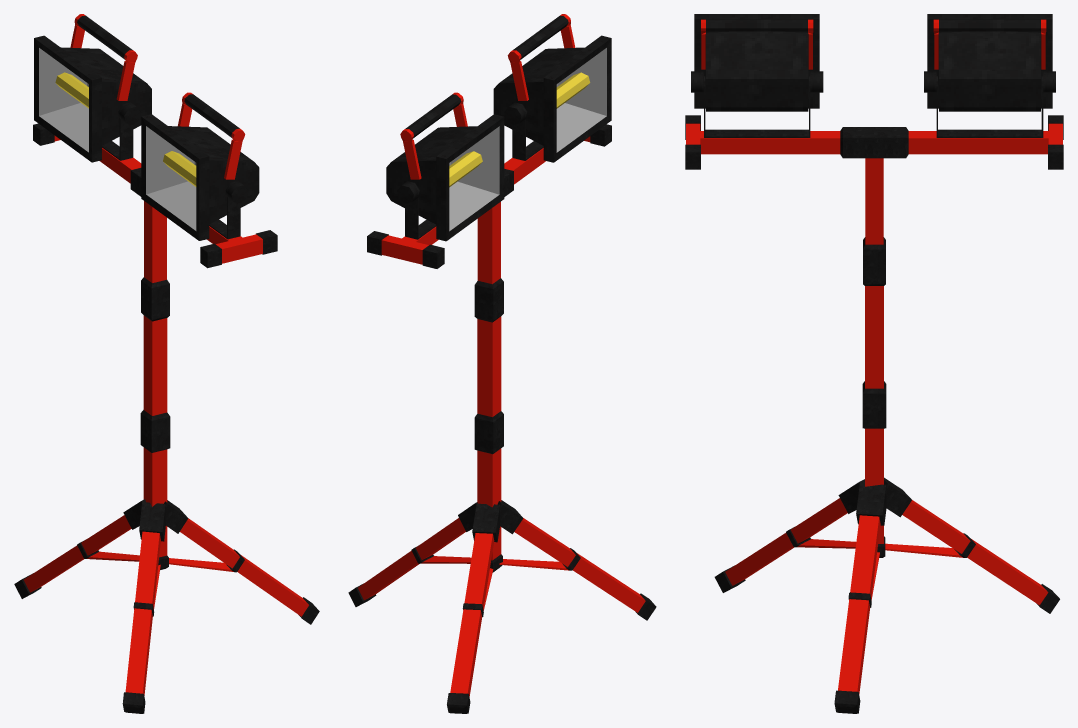
The model's file is halogen_station.glb.
The picture shows the model from 3 angles, left to right: view 1: azimuth 30°, elevation 25°; view 2: azimuth 150°, elevation 25°; view 3: azimuth 270°, elevation 25°; orthographic projection. The views are drawn at different scales.
Parts seen in each view (by area): view 1: Legs, HalogenR, HalogenL, HalogenStation, TopPart, HalogenStandL, HalogenStandR; view 2: Legs, HalogenL, HalogenR, HalogenStation, TopPart, HalogenStandR, HalogenStandL; view 3: Legs, HalogenR, HalogenL, TopPart, HalogenStation, HalogenStandL, HalogenStandR.
Part boxes in pixels (x1=…): Legs: x1=14, y1=499, x2=319, y2=713; HalogenR: x1=141, y1=92, x2=259, y2=240; HalogenL: x1=34, y1=14, x2=151, y2=162; HalogenStation: x1=140, y1=201, x2=170, y2=569; TopPart: x1=33, y1=123, x2=277, y2=268; HalogenStandL: x1=102, y1=102, x2=141, y2=160; HalogenStandR: x1=209, y1=181, x2=248, y2=239; Legs: x1=348, y1=500, x2=656, y2=713; HalogenL: x1=386, y1=92, x2=504, y2=241; HalogenR: x1=493, y1=14, x2=611, y2=162; HalogenStation: x1=474, y1=202, x2=503, y2=572; TopPart: x1=367, y1=124, x2=611, y2=268; HalogenStandR: x1=504, y1=102, x2=543, y2=160; HalogenStandL: x1=397, y1=181, x2=436, y2=239; Legs: x1=714, y1=477, x2=1059, y2=713; HalogenR: x1=694, y1=14, x2=819, y2=111; HalogenL: x1=927, y1=14, x2=1052, y2=111; TopPart: x1=685, y1=115, x2=1063, y2=169; HalogenStation: x1=862, y1=158, x2=886, y2=557; HalogenStandL: x1=924, y1=71, x2=1055, y2=137; HalogenStandR: x1=691, y1=71, x2=823, y2=137.
Size of the model in its own units: 0.3073 by 0.6766 by 0.3736.
Materials: 6 (2 with a texture image).
